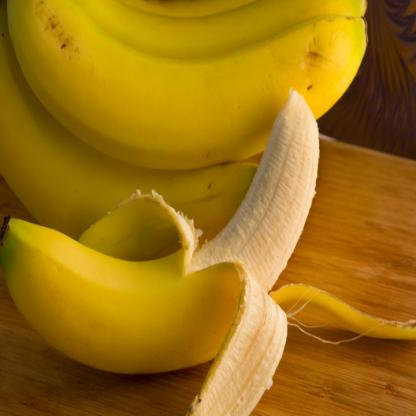banana: (8, 91, 347, 360), (0, 11, 256, 266), (16, 15, 379, 166)
